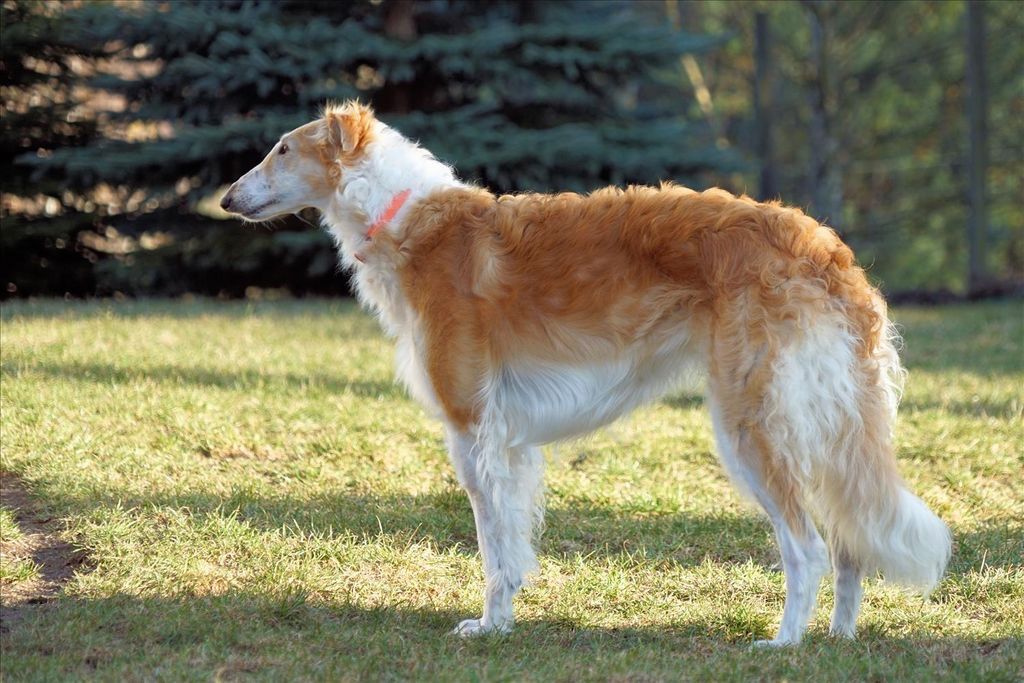borzoi: (212, 103, 950, 650)
